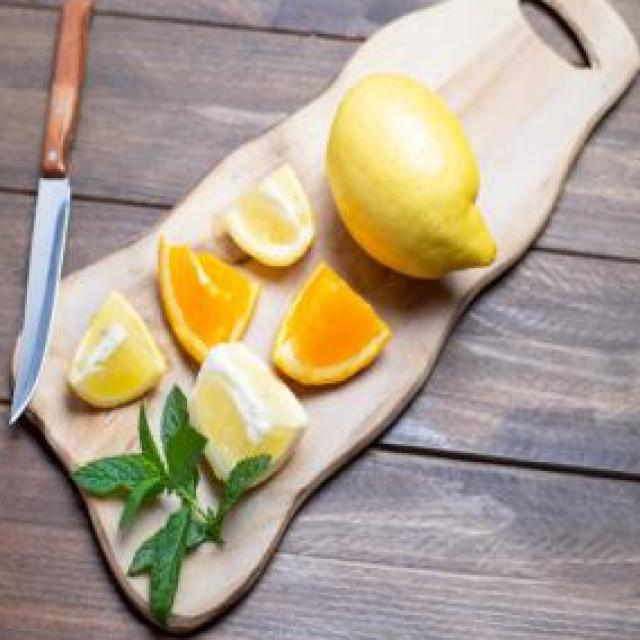knife: (7, 0, 97, 428)
